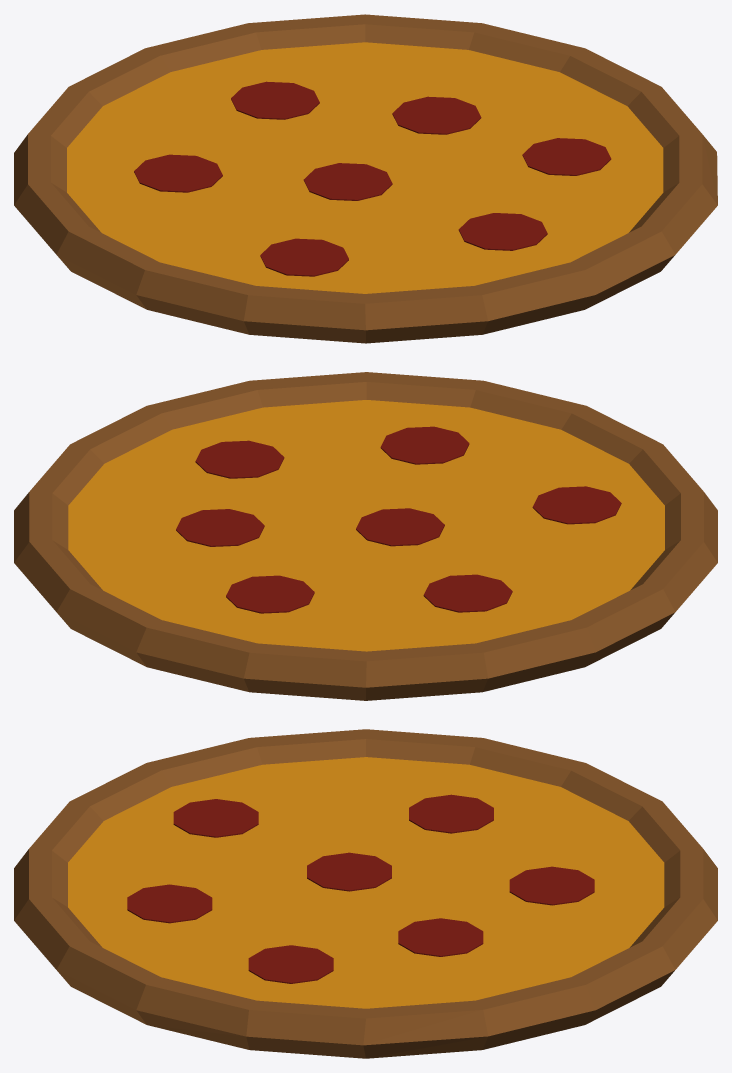
The model's file is pizza.fbx.
3 renders of one model, top to bottom at view 1: azimuth 30°, elevation 25°; view 2: azimuth 150°, elevation 25°; view 3: azimuth 270°, elevation 25°, orthographic.
Parts seen in each view (by area): view 1: Cylinder003; view 2: Cylinder003; view 3: Cylinder003.
Part boxes in pixels (x1,y1,x2,y2): Cylinder003: (14, 14, 717, 343); Cylinder003: (14, 372, 717, 700); Cylinder003: (14, 729, 717, 1058).
Bounding box in the file's own units: 79.95 × 5 × 78.78.
